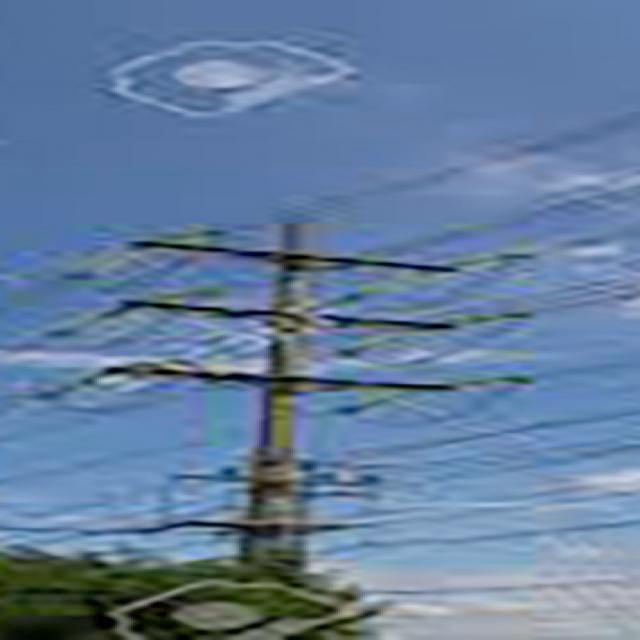crossarm: (139, 237, 462, 275), (124, 300, 454, 335), (111, 365, 454, 392)
pole: (249, 222, 315, 575)
